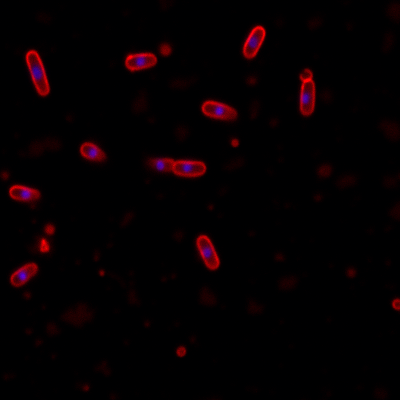CAM: (24, 50, 51, 98), (195, 234, 221, 272), (240, 24, 267, 60), (8, 262, 40, 288), (123, 51, 158, 72), (298, 79, 316, 116)
Oblique: (144, 157, 207, 178), (201, 99, 239, 120), (79, 142, 106, 163), (8, 185, 41, 202)
Vesicle: (43, 222, 57, 237), (298, 68, 312, 82), (38, 237, 50, 253), (159, 43, 172, 56), (175, 346, 187, 359), (230, 138, 240, 148)
